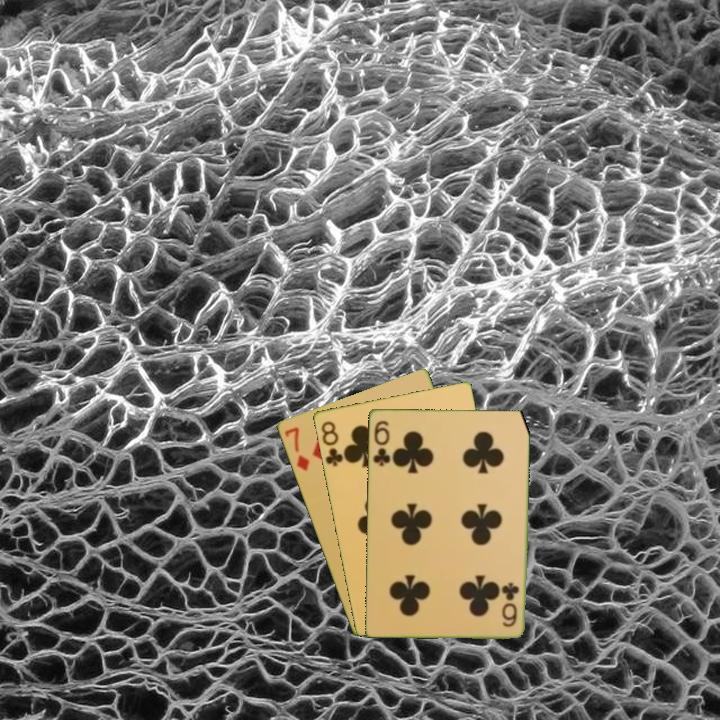6c: (369, 416, 393, 469), (500, 578, 521, 630)
7d: (281, 423, 312, 474)
8c: (317, 417, 348, 469)
